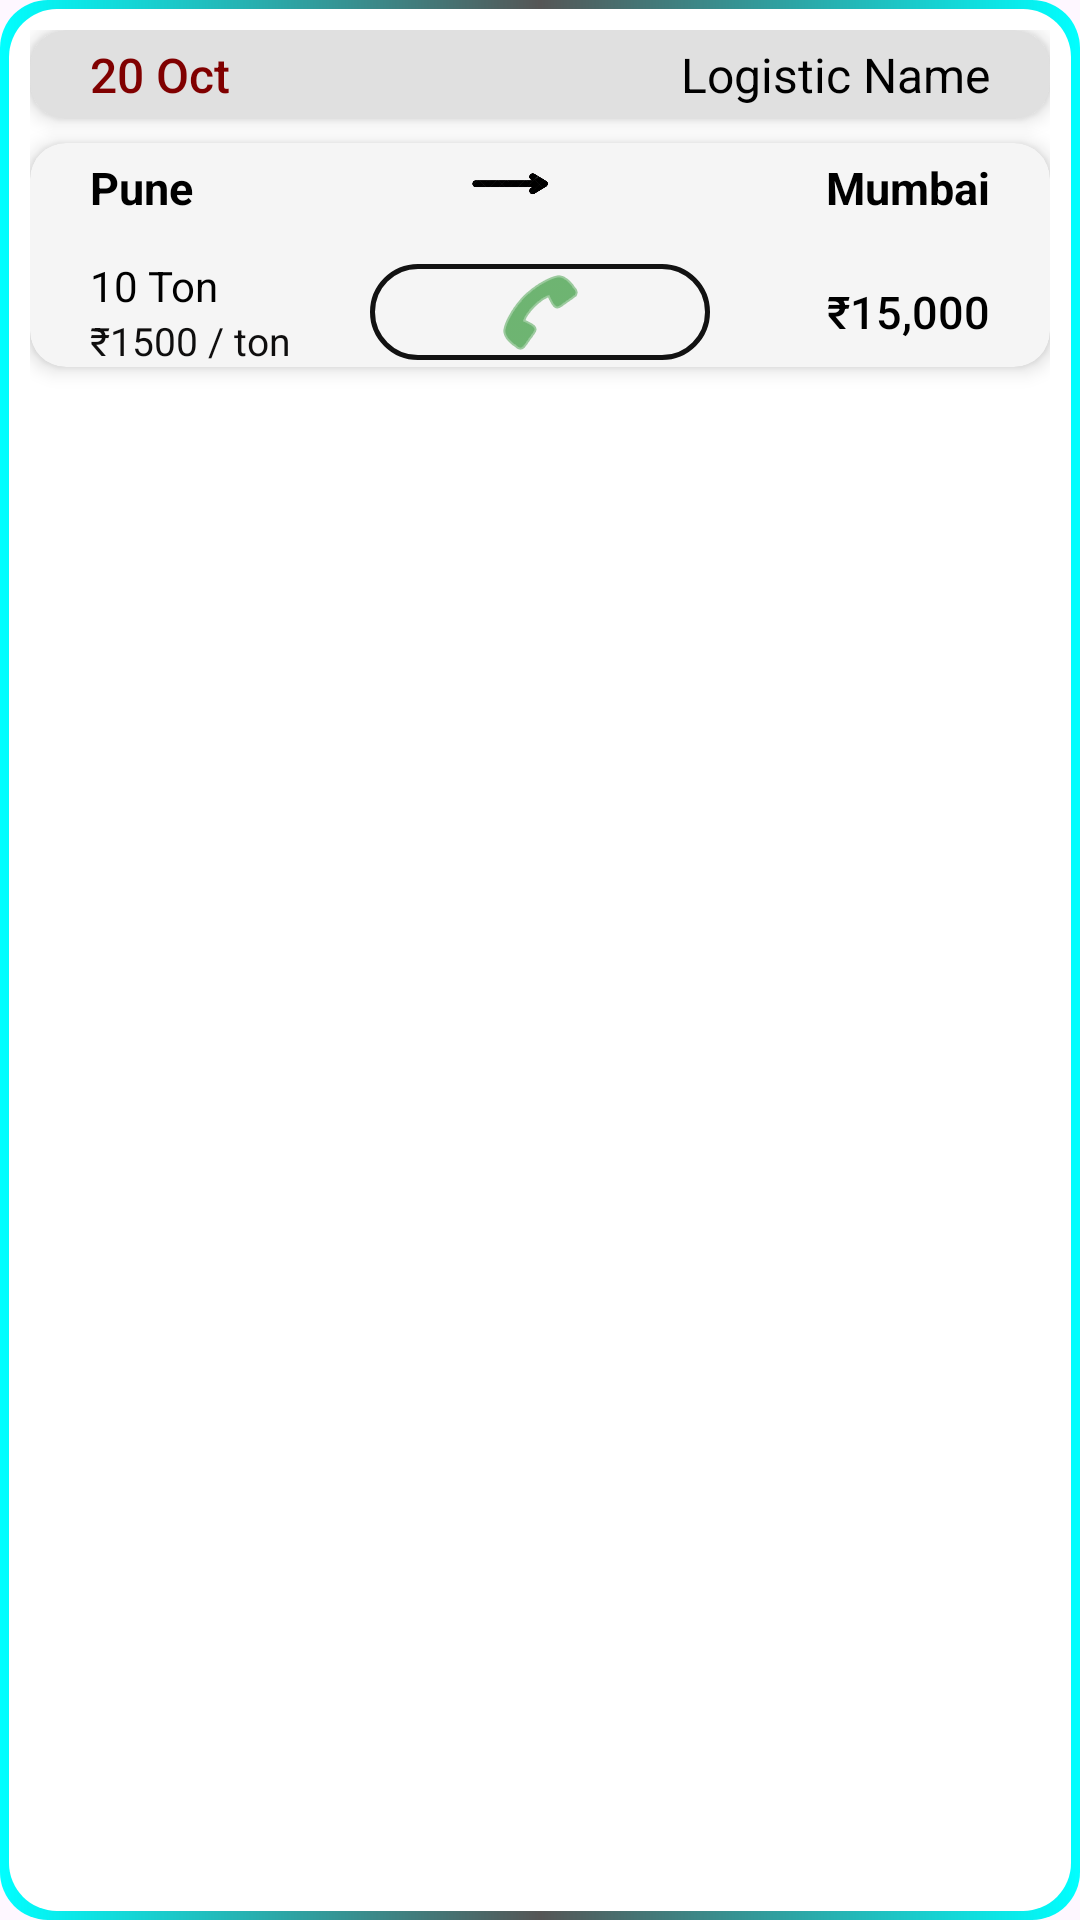

Where icons sit on this 1080 × 1920 app screen, as [x1=x1, y1=y1, x2=x2, y2=y2]:
Call: [x1=370, y1=264, x2=710, y2=360]
